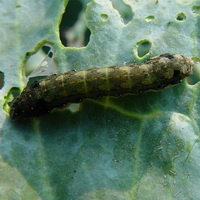insect: (9, 53, 191, 119)
